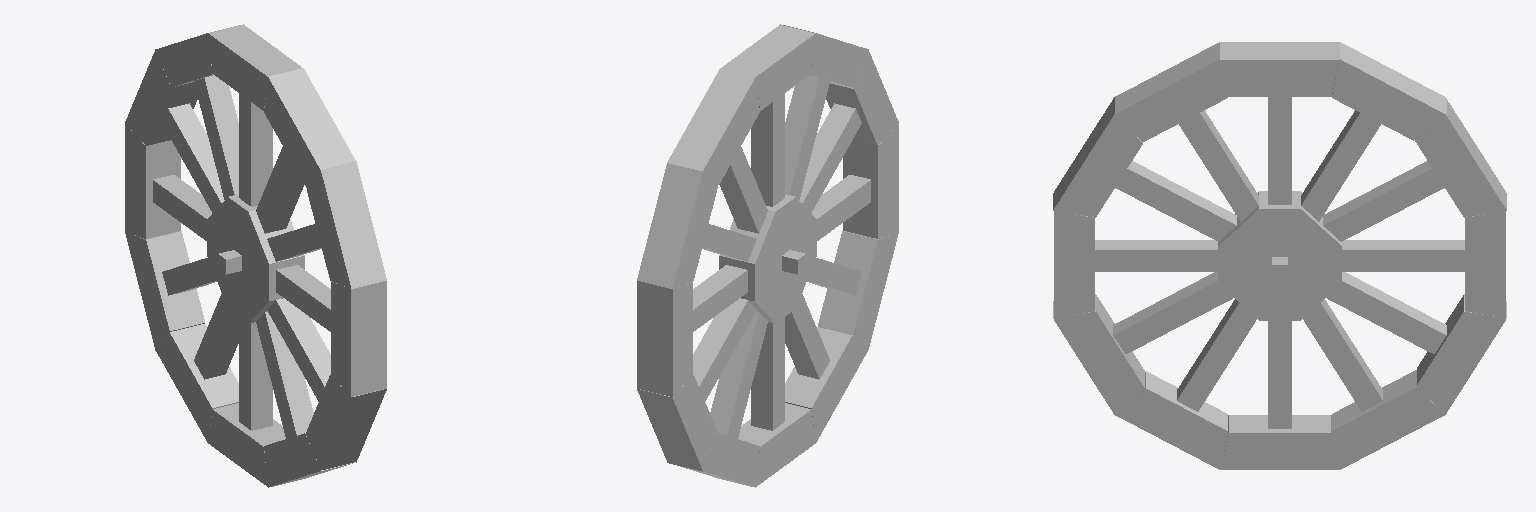
File: ryzerstandardwheel.obj
3 renders of one model, left to right at view 1: azimuth 30°, elevation 25°; view 2: azimuth 150°, elevation 25°; view 3: azimuth 270°, elevation 25°, orthographic.
Visible parts, largest first — view 1: bodyModel; view 2: bodyModel; view 3: bodyModel.
Boxes of the visible parts, x1,y1,x2,y2 form: bodyModel: [125, 24, 386, 487]; bodyModel: [637, 24, 898, 487]; bodyModel: [1053, 42, 1506, 469].
Size of the model in its own units: 0.1187 by 0.6891 by 0.6891.